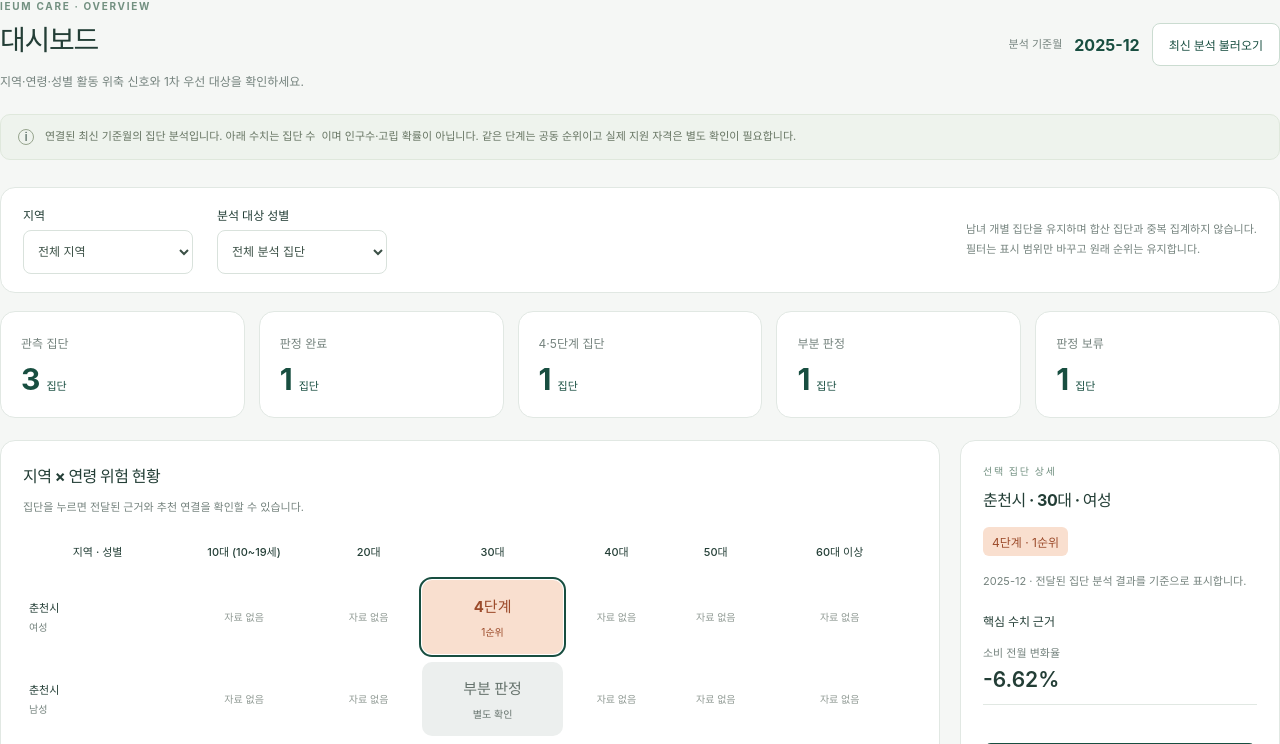
Scenario: 지역·성별 필터는 표시만 바꾸고 부분 판정을 낮은 단계로 바꾸지 않는다
The image size is (1280, 744).
Expected: the text "소비 전월 변화율" is shown, [983,646,1060,660]
Expected: the text "-6.62%" is shown, [983,667,1059,692]
Select "남성" in the dropdown labelled "분석 대상 성별" at (302, 252), box [217,230,387,274]
(page scrolled)
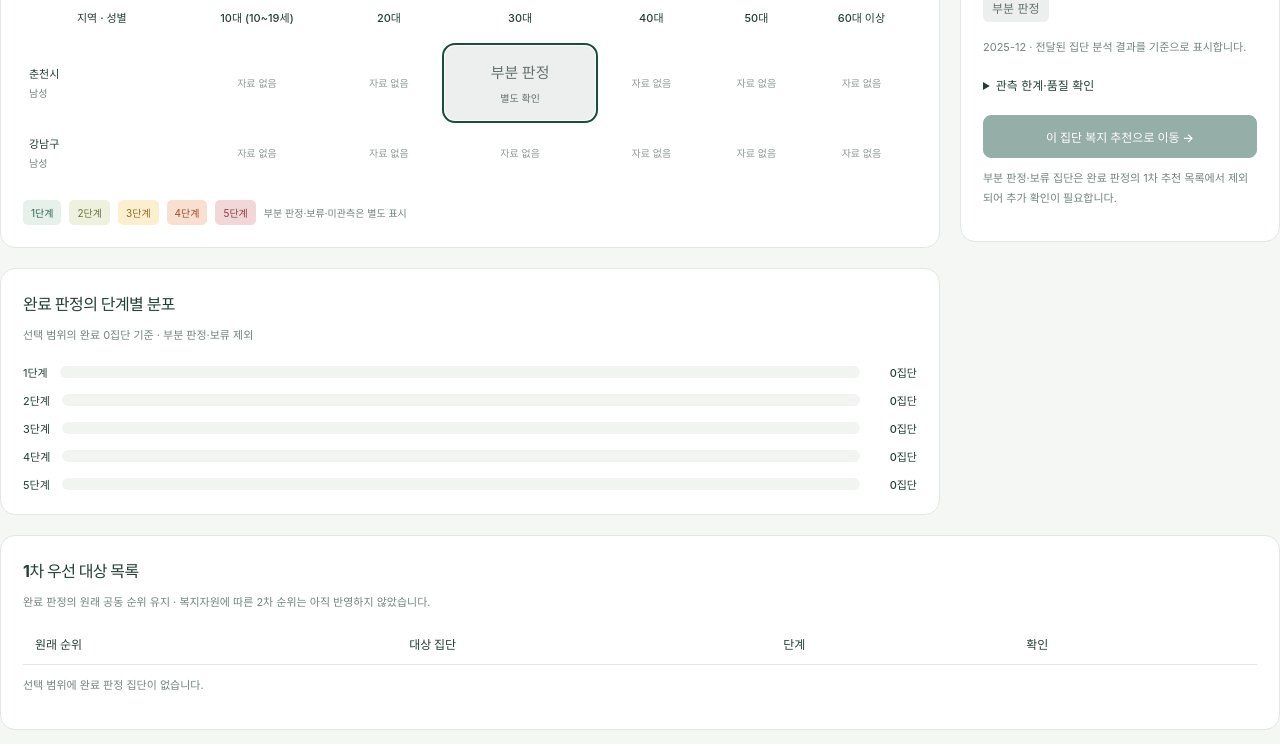
Expected: the button with aria-label "춘천시 · 30대 · 남성 · 부분 판정" is shown, [445,46,595,120]
Now the button "이 집단 복지 추천으로 이동 →" is disabled, box [983,115,1257,158]
Now the text "선택 범위에 완료 판정 집단이 없습니다." is shown, box [23,678,204,692]
